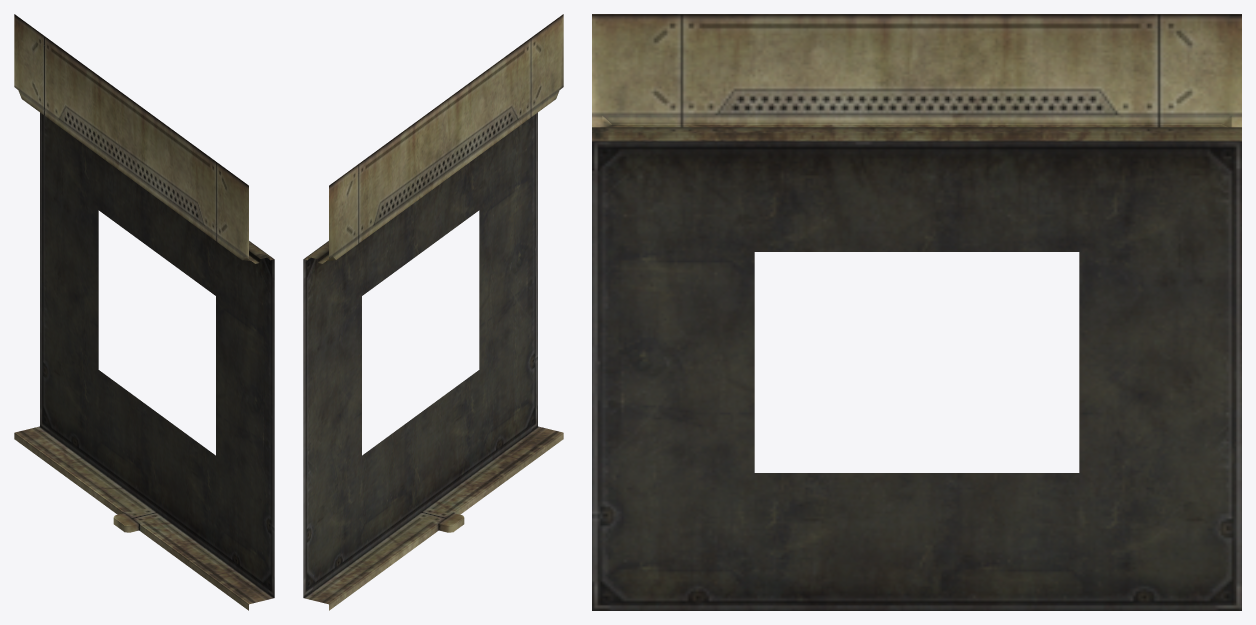
Rendered from pplant_ground_blank_maintenance_hatch.dae.
3 views of the same model, side by side, from view 1: azimuth 30°, elevation 25°; view 2: azimuth 150°, elevation 25°; view 3: azimuth 270°, elevation 25° (orthographic). The views are drawn at different scales.
Visible parts, largest first — view 1: ground_blank_maintenance_hatch; view 2: ground_blank_maintenance_hatch; view 3: ground_blank_maintenance_hatch.
Part boxes in pixels (x1,y1,x2,y2): ground_blank_maintenance_hatch: (14,14,274,610); ground_blank_maintenance_hatch: (303,14,563,610); ground_blank_maintenance_hatch: (592,14,1241,610).
Size of the model in its own units: 0.375 by 4 by 4.
